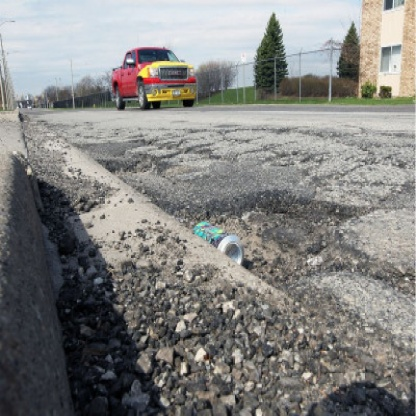pothole: (156, 179, 385, 299), (102, 133, 168, 184)
